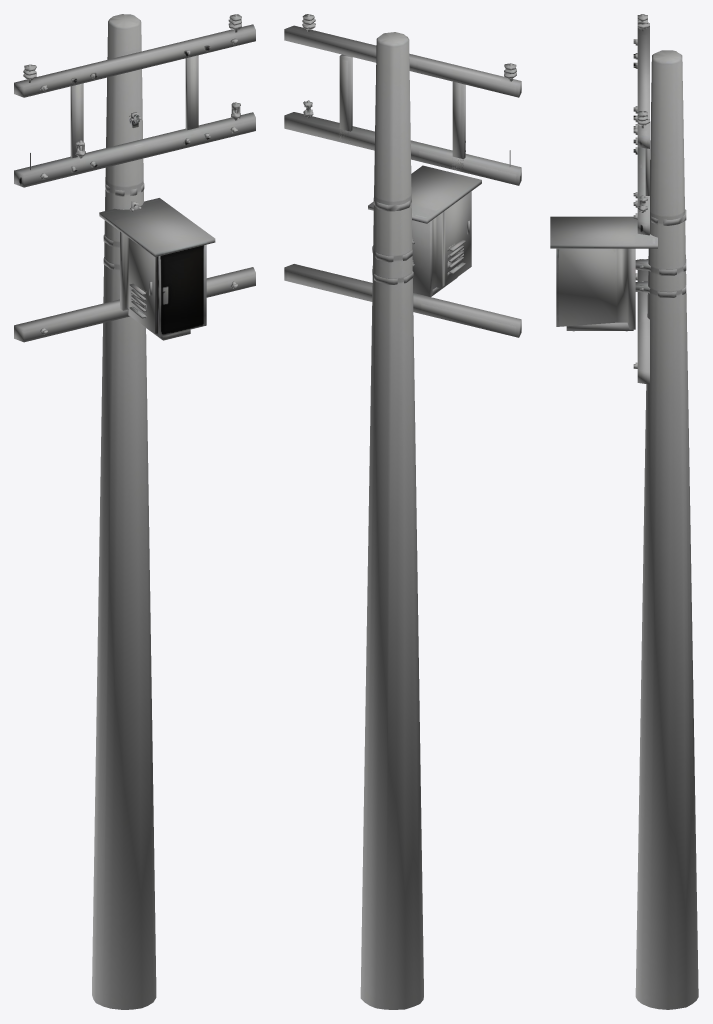
File: original_glb.glb
3 renders of one model, left to right at view 1: azimuth 30°, elevation 25°; view 2: azimuth 150°, elevation 25°; view 3: azimuth 270°, elevation 25°, orthographic. The views are drawn at different scales.
Parts seen in each view (by area): view 1: utility pole; view 2: utility pole; view 3: utility pole.
Part boxes in pixels (bbox=[...]): utility pole: bbox=[14, 14, 255, 1009]; utility pole: bbox=[284, 14, 521, 1009]; utility pole: bbox=[550, 14, 698, 1009].
Bounding box in the file's own units: 0.2559 × 0.998 × 0.1426.
Materials: 1 (1 with a texture image).
